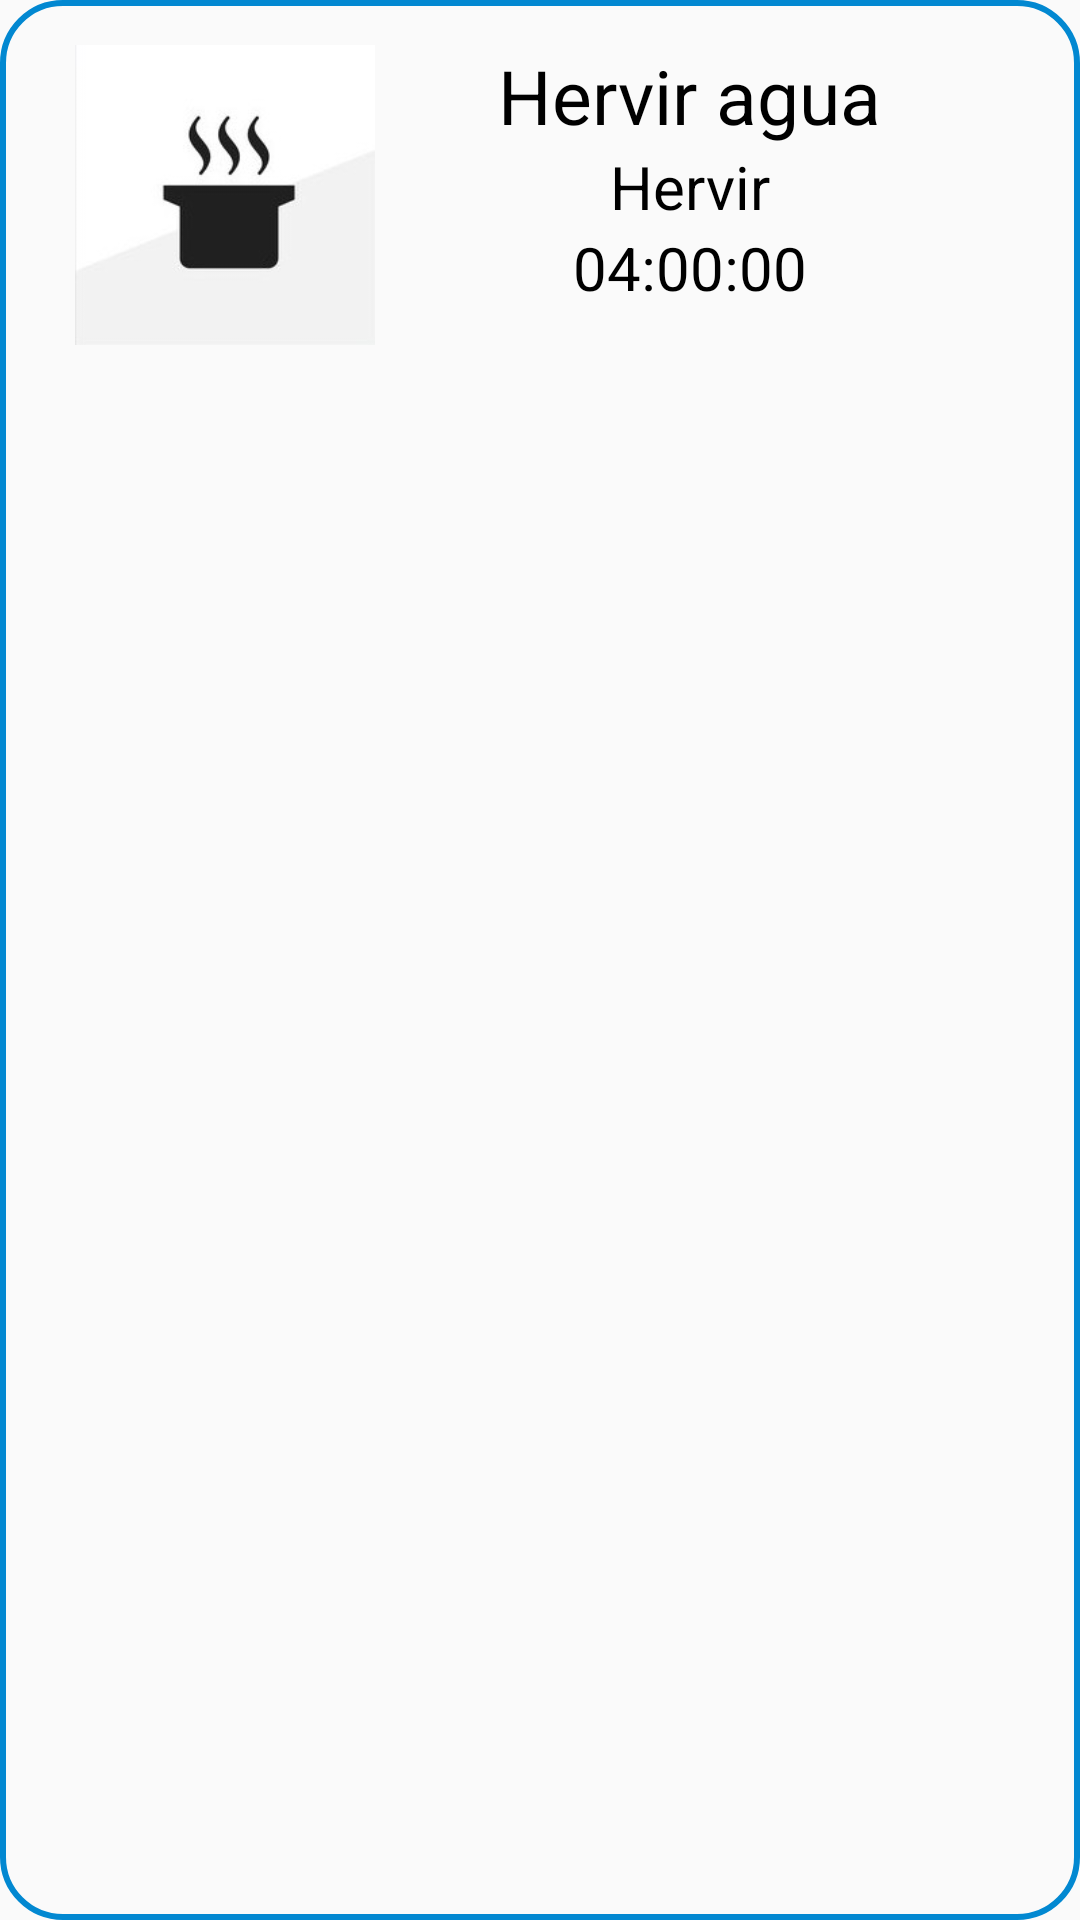

Screen size 1080 × 1920. Icon name, then its box in pixels as (x1=x1, y1=y1, x2=x2, y2=y2):
boil: (x1=162, y1=115, x2=296, y2=269)
